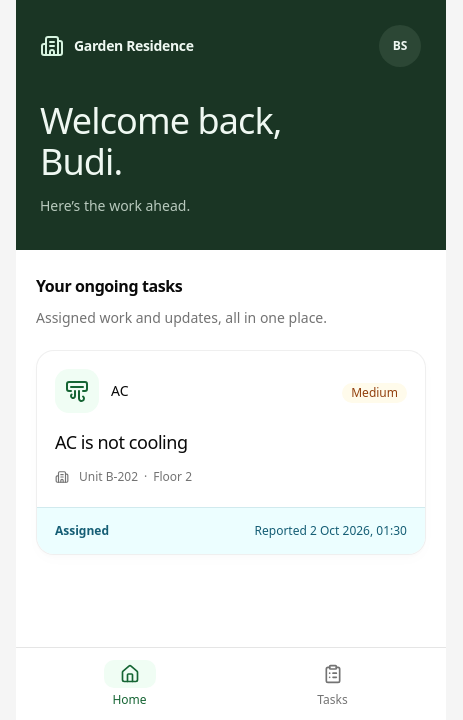
it: opens a homepage card as one accessible link and returns home
Click the link with aria-label "View task: AC is not cooling" at [77, 391], box [37,351,425,554]
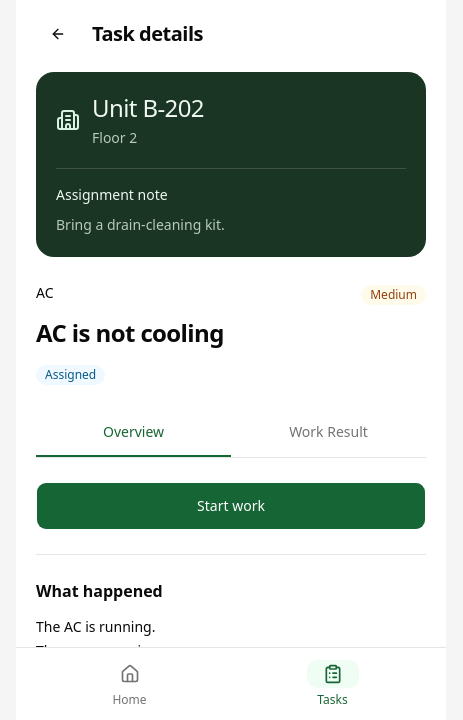
Expected: the heading "Task details" is shown, [92,20,203,48]
Click the link named "Back to home" at [58, 34], box [50,26,66,42]
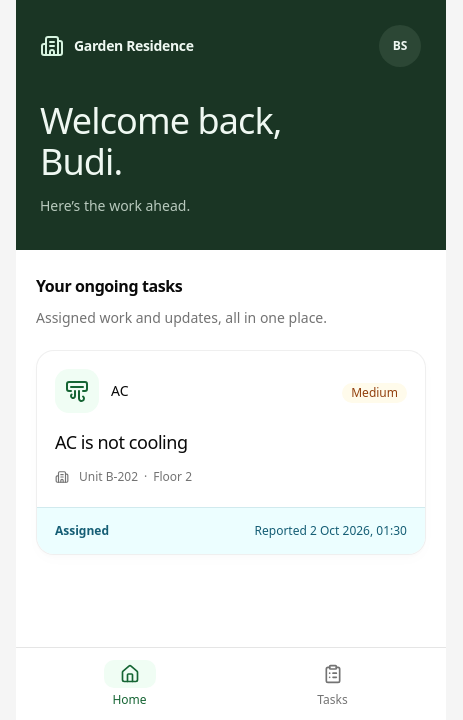
Expected: the heading "Your ongoing tasks" is shown, [36,275,182,297]
